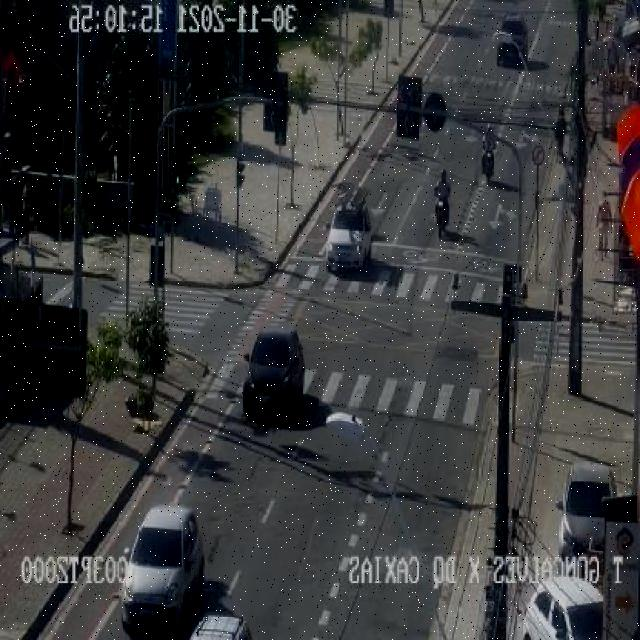Car: (119, 505, 202, 633), (242, 324, 307, 424), (558, 462, 618, 556), (522, 576, 604, 639), (324, 196, 374, 274), (496, 15, 528, 68), (185, 614, 250, 638)
Cycle: (435, 209, 447, 239), (482, 157, 494, 184)
